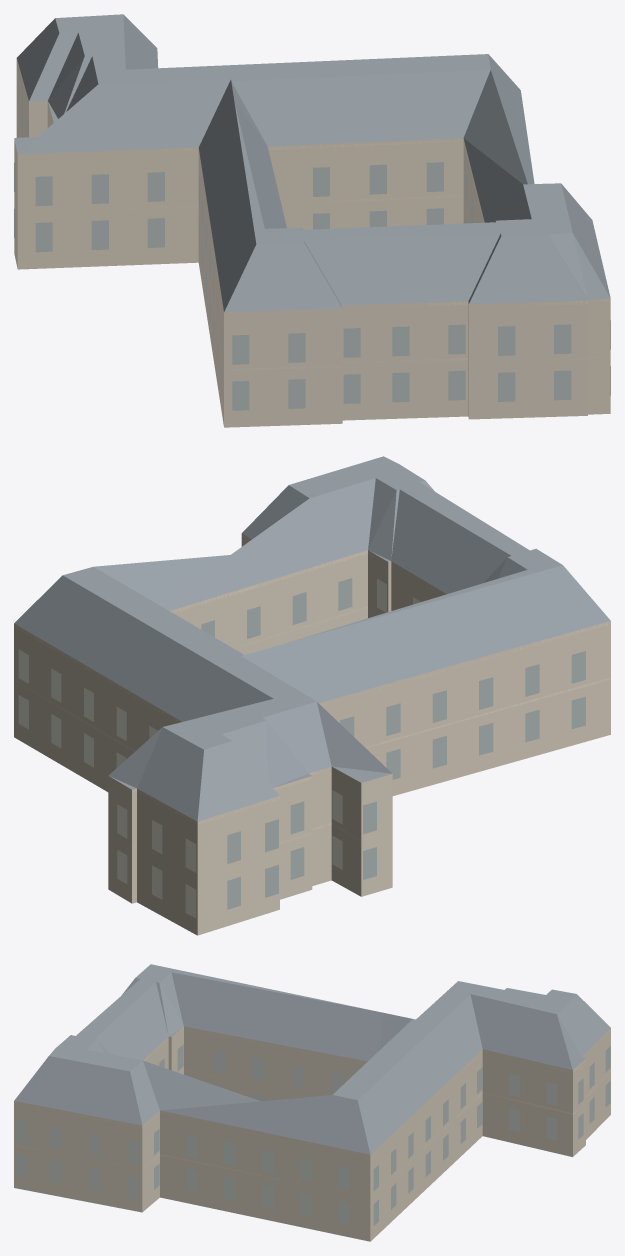
File: detail.glb
3 renders of one model, top to bottom at view 1: azimuth 30°, elevation 25°; view 2: azimuth 150°, elevation 25°; view 3: azimuth 270°, elevation 25°, orthographic. The views are drawn at different scales.
Parts seen in each view (by area): view 1: roof, stone, window, trim; view 2: roof, stone, window, trim; view 3: roof, stone, window, trim.
Boxes of the visible parts, box(x1,y1,x2,y2) form: roof: box(14, 14, 610, 312); stone: box(14, 59, 610, 427); window: box(14, 97, 610, 410); trim: box(14, 63, 610, 370); roof: box(14, 456, 610, 821); stone: box(14, 533, 610, 935); window: box(18, 578, 585, 918); trim: box(14, 533, 610, 879); roof: box(14, 964, 610, 1154); stone: box(14, 1026, 610, 1241); window: box(15, 1044, 610, 1225); trim: box(14, 1027, 610, 1198).
Bounding box in the file's own units: 44.99 × 16 × 68.4.
